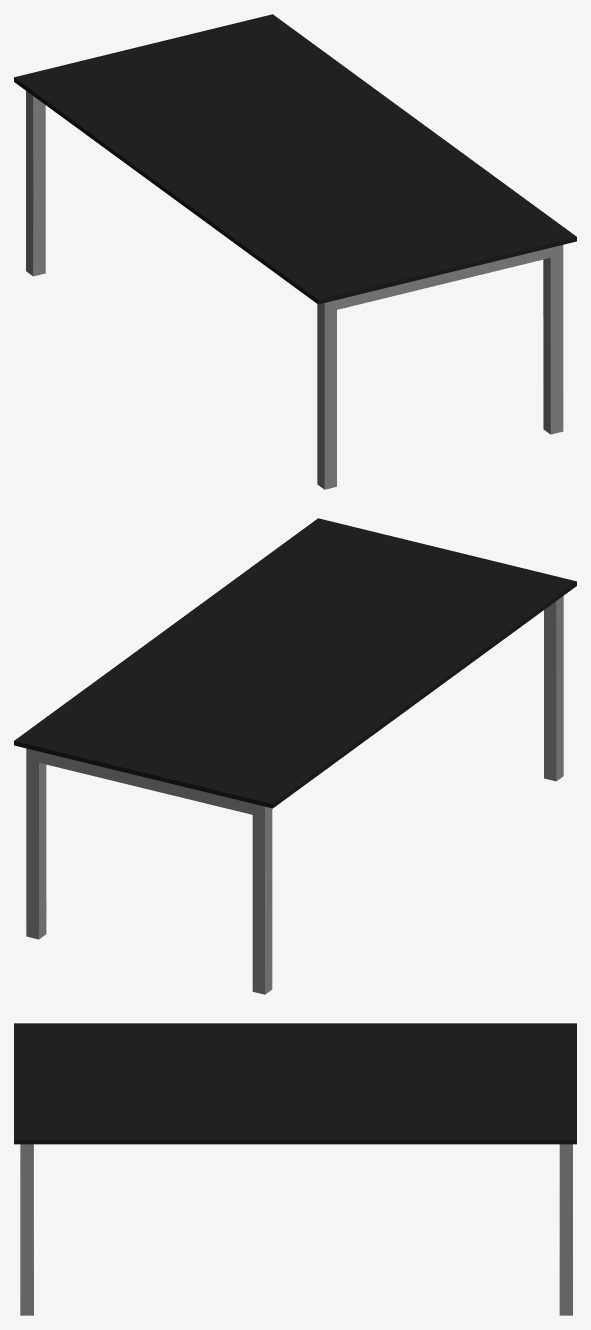
File: Table 3.FBX
3 views of the same model, one above another, from view 1: azimuth 30°, elevation 25°; view 2: azimuth 150°, elevation 25°; view 3: azimuth 270°, elevation 25° (orthographic). The views are drawn at different scales.
Visible parts, largest first — view 1: Table 3; view 2: Table 3; view 3: Table 3.
Part boxes in pixels (box(x1,y1,x2,y2)): Table 3: box(14, 14, 576, 489); Table 3: box(14, 518, 576, 994); Table 3: box(14, 1023, 576, 1315).
Size of the model in its own units: 102 by 73.63 by 208.
2 materials, 1 textured.
